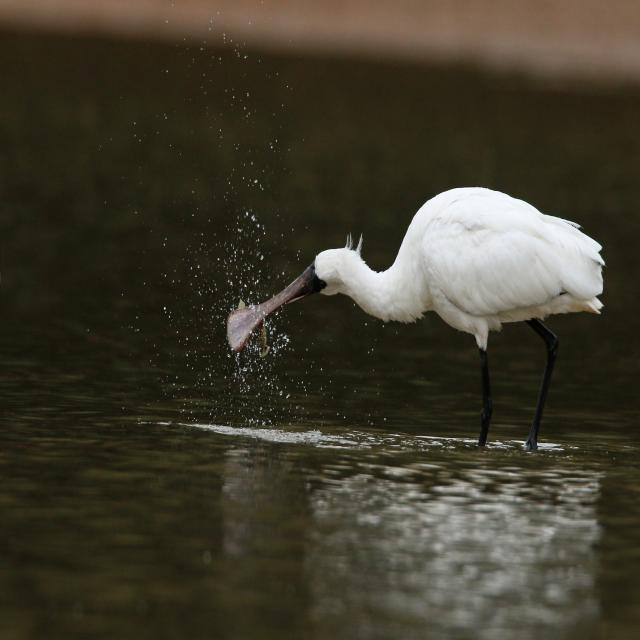Black-faced spoonbill: (228, 188, 603, 449)
